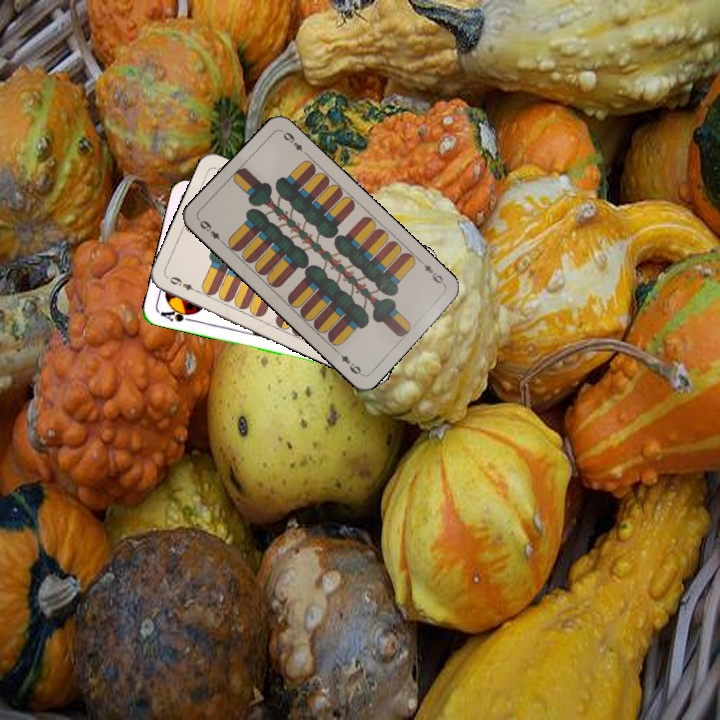E9: (416, 256, 448, 288), (196, 216, 227, 247), (165, 272, 202, 295)
SA: (156, 304, 197, 324)
